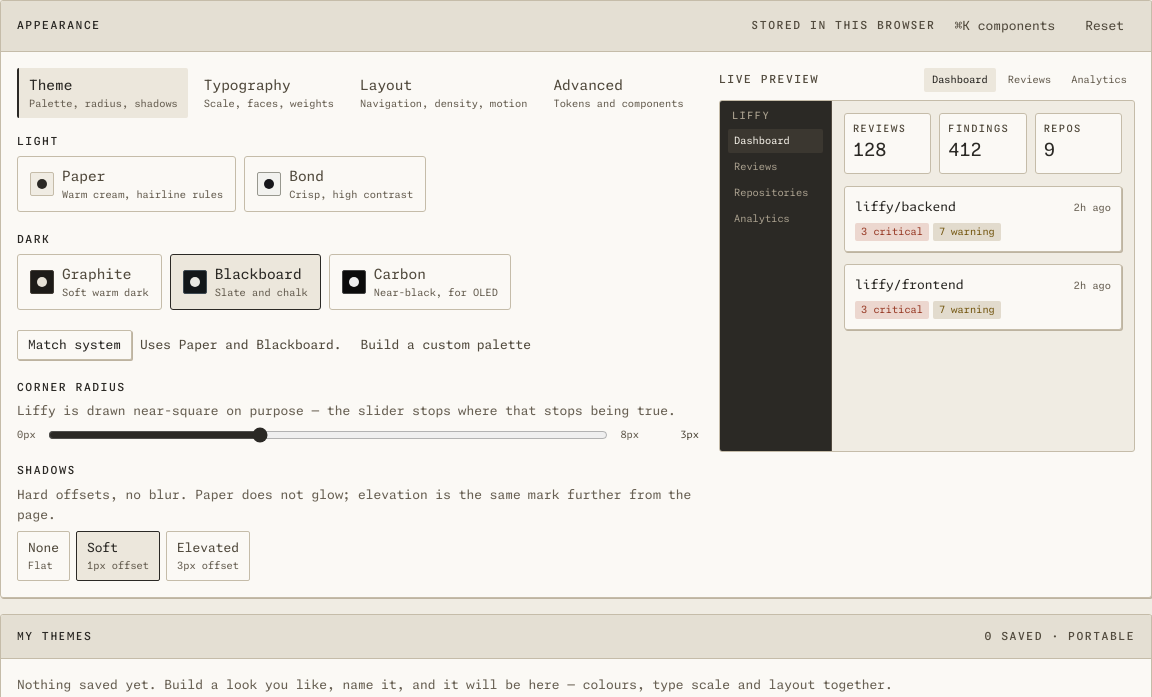
Test: Appearance › only offers the knobs the chosen component accepts
Click the button "⌘K components" at (1005, 26), box [944,11,1066,41]
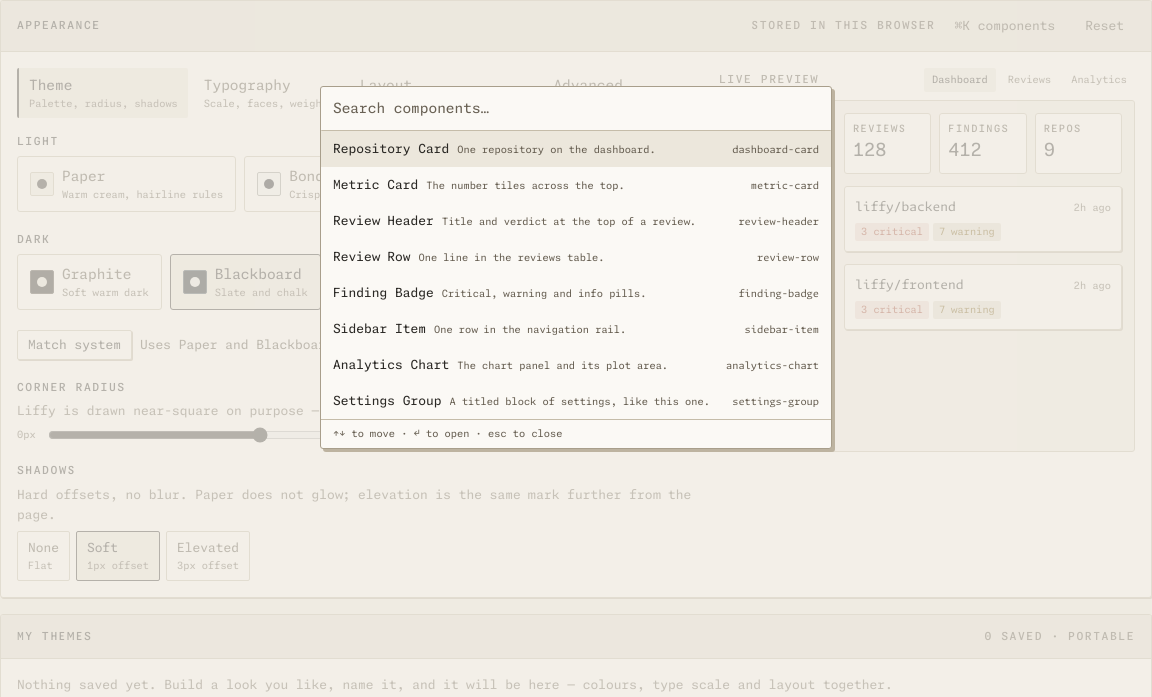
Type "review row" into the field labelled "Search components" at (576, 109), box [321,87,831,131]
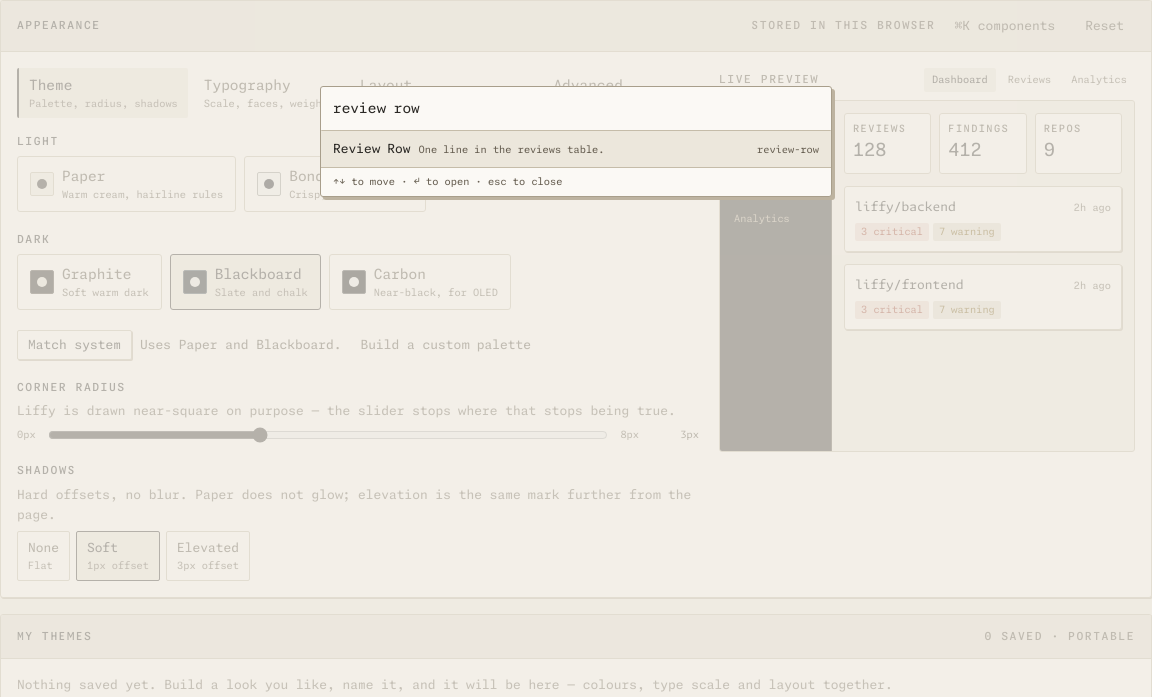
Press Enter
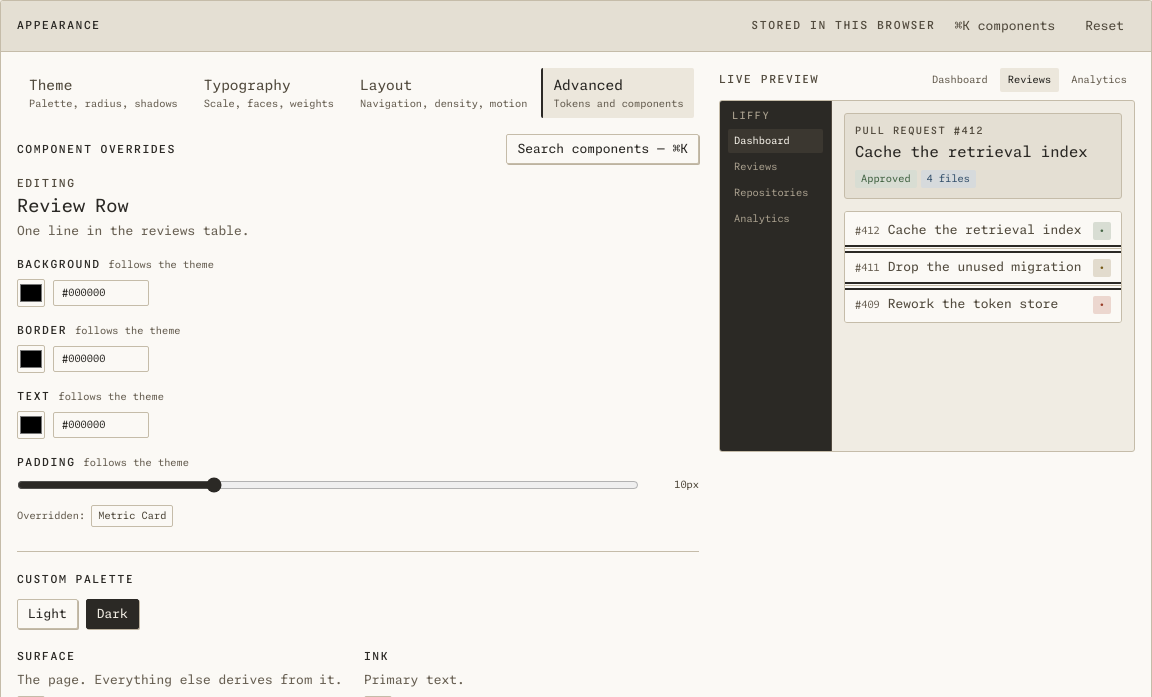
Check: the text "Review Row" is shown, box [17,195,129,216]
Check: the text "Corner radius" is gone
